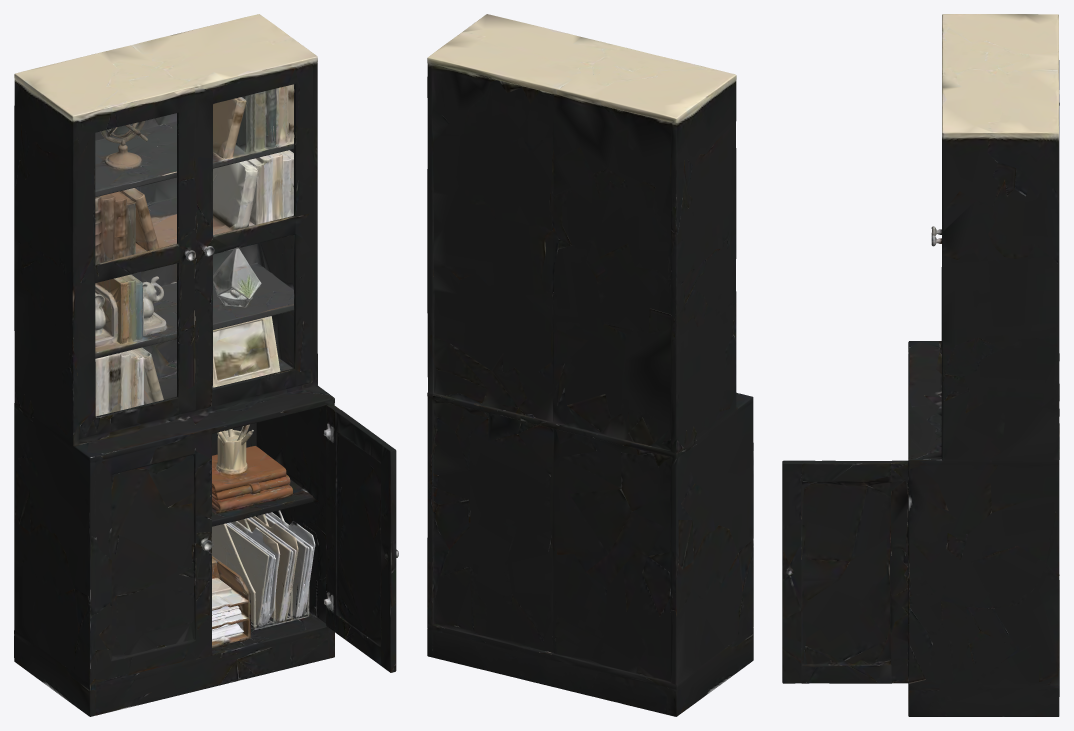
The model's file is vitrine-01.glb.
3 views of the same model, side by side, from view 1: azimuth 30°, elevation 25°; view 2: azimuth 150°, elevation 25°; view 3: azimuth 270°, elevation 25° (orthographic). The views are drawn at different scales.
Bounding box in the file's own units: 0.84 × 1.9 × 0.8183.
Materials: 1 (1 with a texture image).
